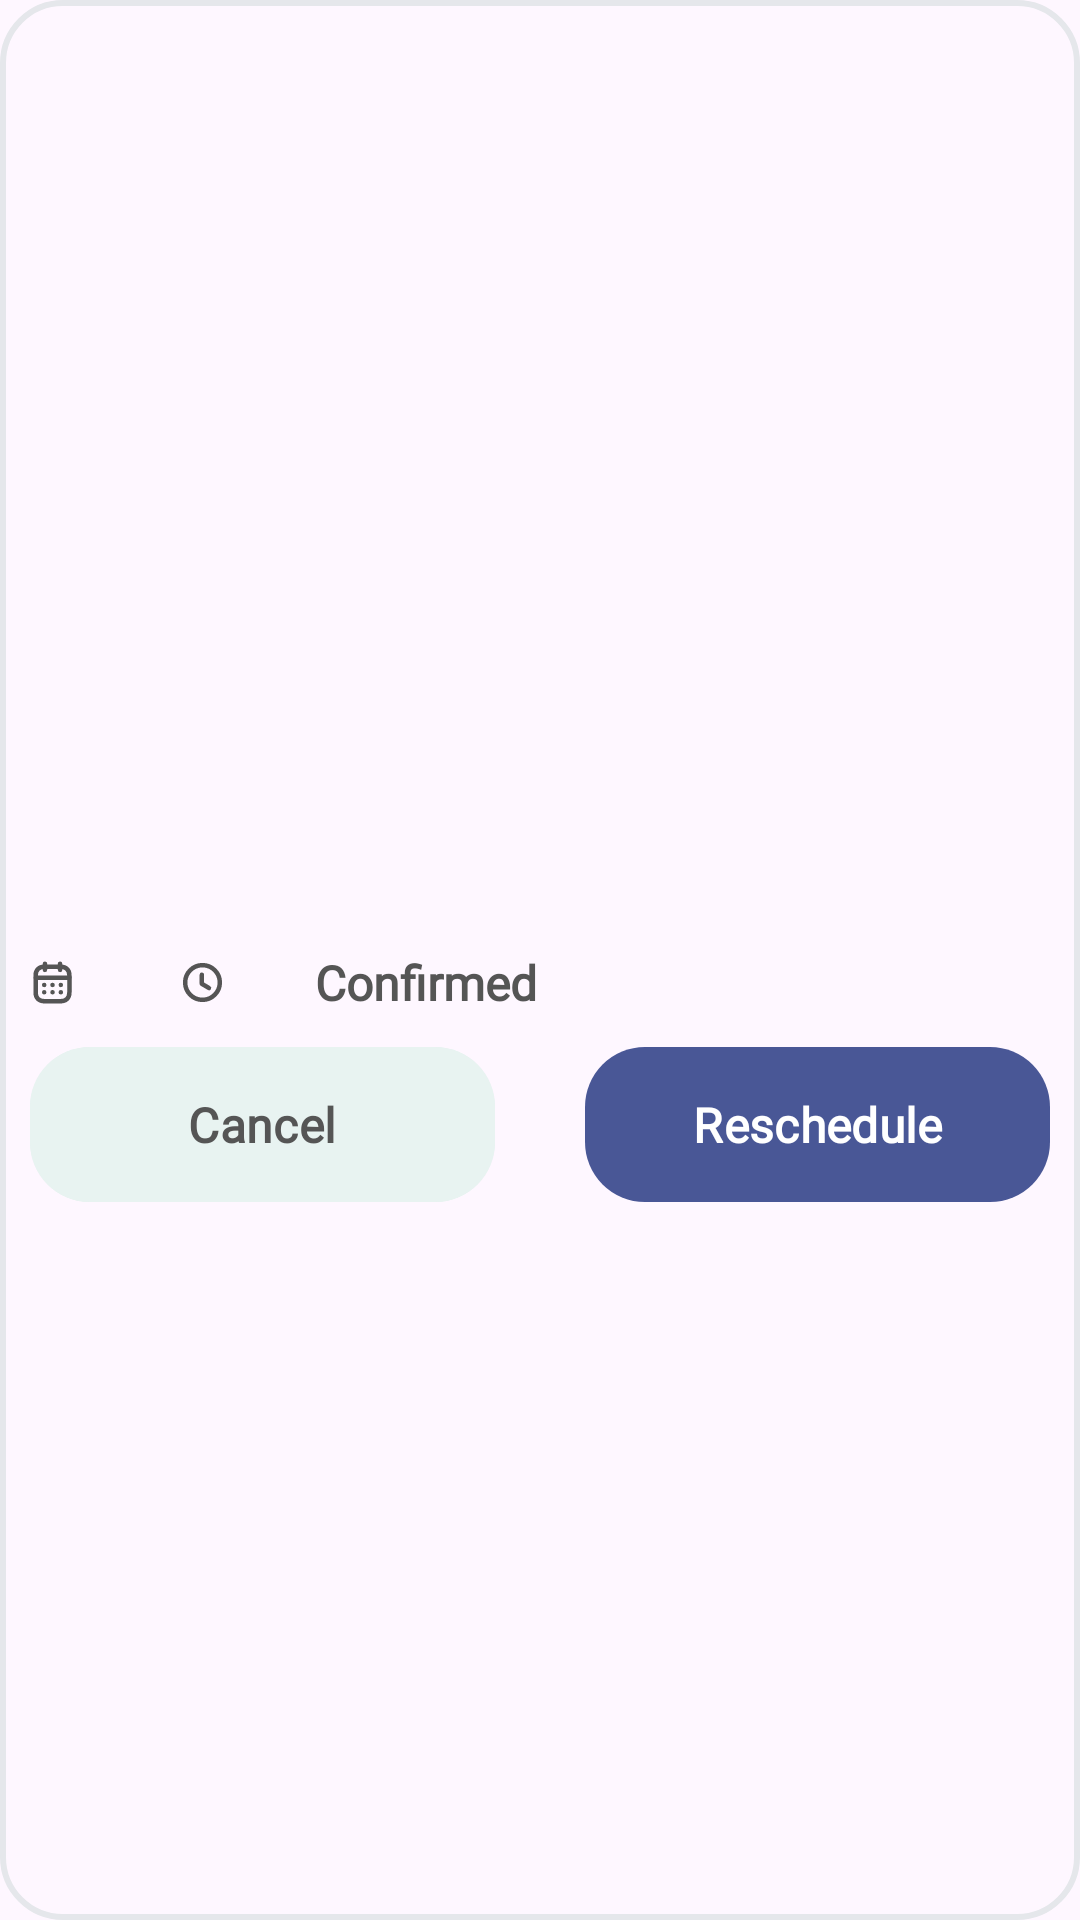

Icons on this 1080x1920 Android screen, each with the point to tap as (x,y):
calendar: (52,982)
time: (202,982)
